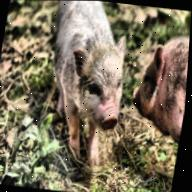boar: (24, 0, 146, 172), (123, 29, 190, 139)
